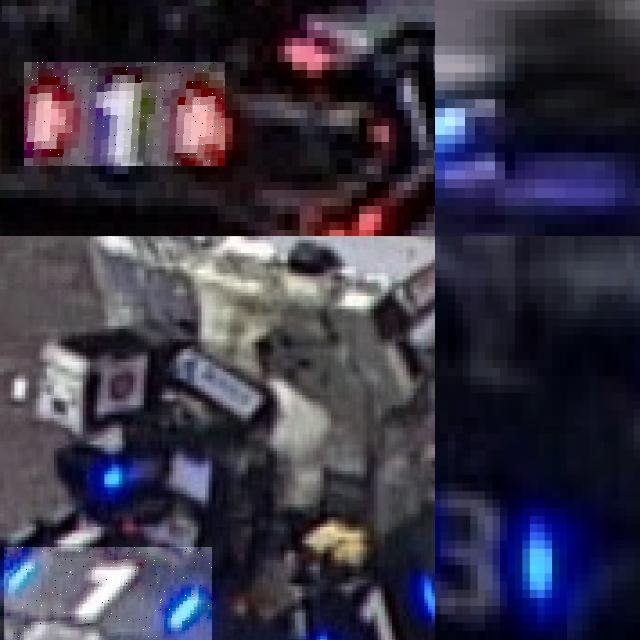B1: (3, 547, 212, 640), (306, 579, 435, 640)
B3: (435, 466, 570, 630)
R1: (24, 62, 225, 166)
